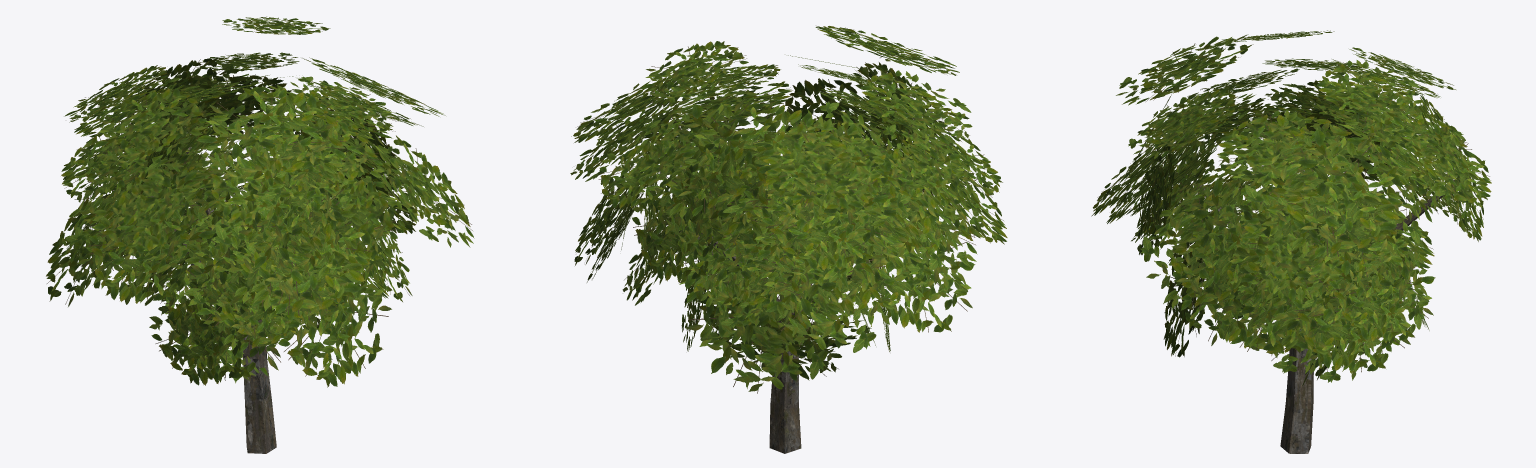
File: tree_c.glb
3 renders of one model, left to right at view 1: azimuth 30°, elevation 25°; view 2: azimuth 150°, elevation 25°; view 3: azimuth 270°, elevation 25°, orthographic.
Visible parts, largest first — view 1: tree_c; view 2: tree_c; view 3: tree_c.
Boxes of the visible parts, x1,y1,x2,y2 form: tree_c: (46,16,474,453); tree_c: (570,26,1007,453); tree_c: (1091,30,1491,453).
Bounding box in the file's own units: 7.34 × 6.5 × 6.64.
2 materials, 2 textured.
